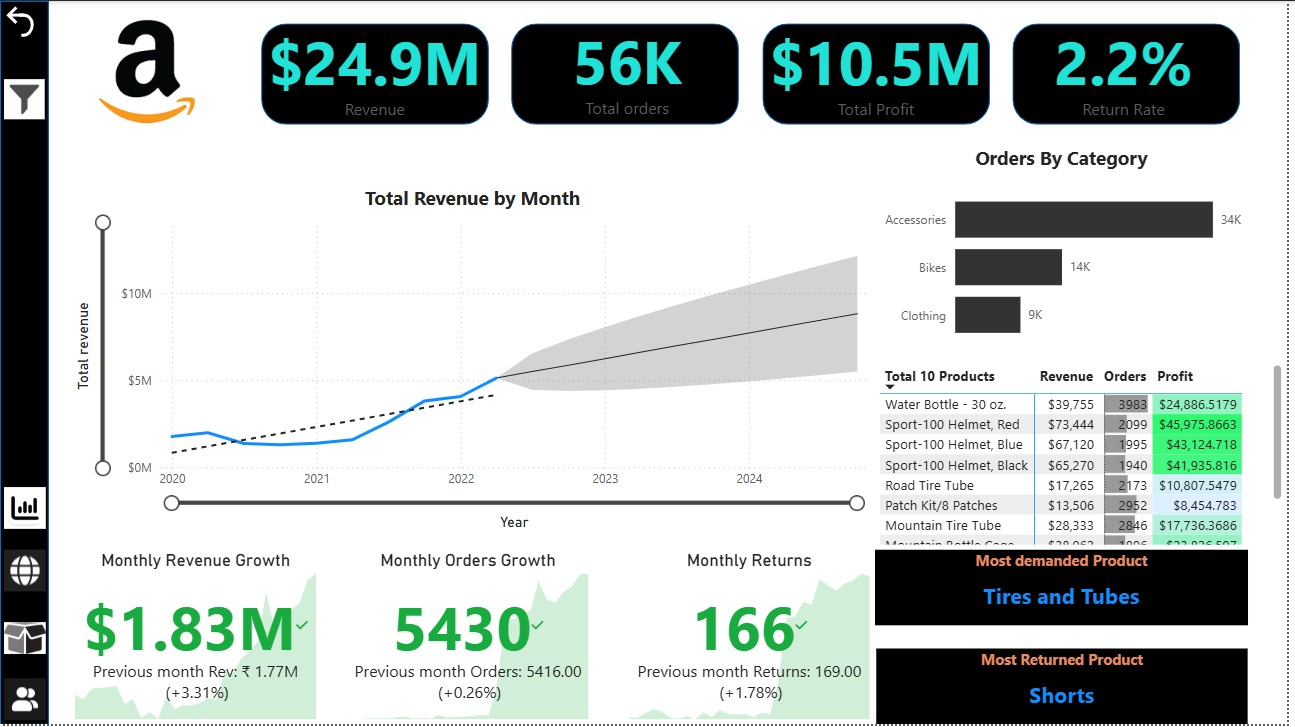

The page's visual inventory and layout, read from the dashboard file:
{"tool":"powerbi","page":{"name":"Exec Dash","canvas":[1280,720],"ordinal":0},"visuals":[{"type":"image","title":"AMAZON LOGO","box":[69.7,7.5,153,128.1],"z":0},{"type":"card","fields":{"Values":["Measures Table.Total revenue X"]},"box":[250,13.7,246.3,109.5],"z":0,"group":"g2"},{"type":"group","id":"g1","title":"KPIs Cards","box":[260,22.4,974,100],"z":0,"group":"g3"},{"type":"shape","box":[260,22.4,226.5,100.6],"z":0,"group":"g1"},{"type":"actionButton","box":[0,479,49.8,51],"z":0,"group":"g4"},{"type":"shape","box":[0,0,48.5,720.3],"z":1000},{"type":"group","id":"g2","title":"KPI Values","box":[250,13.7,991.4,109.5],"z":1000,"group":"g3"},{"type":"card","fields":{"Values":["Measures Table.Total orders"]},"box":[501.3,13.7,246.3,108.2],"z":1000,"group":"g2"},{"type":"shape","box":[509.1,22.4,226.5,100.6],"z":1000,"group":"g1"},{"type":"actionButton","box":[0,541.2,49.8,51],"z":1000,"group":"g4"},{"type":"group","id":"g3","title":"KPIs","box":[250,13.7,991.4,109.5],"z":2000},{"type":"card","fields":{"Values":["Measures Table.Total Profit"]},"box":[748.8,18.7,246.3,100.8],"z":2000,"group":"g2"},{"type":"shape","box":[758.2,22.4,226.5,100.6],"z":2000,"group":"g1"},{"type":"actionButton","box":[0,669.3,49.8,51],"z":2000,"group":"g4"},{"type":"card","fields":{"Values":["Measures Table.Return Rate"]},"box":[995.1,18.7,246.3,100.8],"z":3000,"group":"g2"},{"type":"shape","box":[1007.4,22.4,226.5,100.6],"z":3000,"group":"g1"},{"type":"lineChart","title":"Total Revenue by Month","fields":{"Y":["Measures Table.Total revenue X"],"Category":["Calendar Lookup.Start of Month.Variation.Date Hierarchy.Year","Calendar Lookup.Start of Month.Variation.Date Hierarchy.Quarter","Calendar Lookup.Start of Month.Variation.Date Hierarchy.Month","Calendar Lookup.Start of Month.Variation.Date Hierarchy.Day"]},"box":[69.7,182.9,801.1,348.3],"z":3000},{"type":"actionButton","box":[0,608.4,49.8,51],"z":3000,"group":"g4"},{"type":"kpi","title":"Monthly Revenue Growth","fields":{"Indicator":["Measures Table.Total revenue X"],"TrendLine":["Calendar Lookup.Start of Month"],"Goal":["Measures Table.Previous Month revenue"]},"box":[69.7,546.1,250,174.2],"z":4000},{"type":"kpi","title":"Monthly Orders Growth","fields":{"TrendLine":["Calendar Lookup.Start of Month"],"Indicator":["Measures Table.Total orders"],"Goal":["Measures Table.Previous Month Orders"]},"box":[340.8,546.1,250,174.2],"z":5000},{"type":"kpi","title":"Monthly Returns","fields":{"TrendLine":["Calendar Lookup.Start of Month"],"Indicator":["Measures Table.Total Returns"],"Goal":["Measures Table.Previous Month Returns"]},"box":[620.7,546.1,250,174.2],"z":6000},{"type":"clusteredBarChart","title":"Orders By Category","fields":{"Category":["Product Categories Lookup.CategoryName"],"Y":["Measures Table.Total orders"]},"box":[870.4,143.6,371.2,213.3],"z":7000},{"type":"pivotTable","fields":{"Rows":["Product Lookup.ProductName"],"Values":["Measures Table.Total revenue X","Measures Table.Total orders","Measures Table.Total Profit"]},"box":[870.4,357,409.6,189.2],"z":8000},{"type":"card","title":"Most Returned Product","fields":{"Values":["Min(Product Subcategories Lookup.SubcategoryName)"]},"box":[871.8,644.3,369.8,75.4],"z":9000},{"type":"card","title":"Most demanded Product","fields":{"Values":["Min(Product Subcategories Lookup.SubcategoryName)"]},"box":[870.4,546.1,371.2,75.4],"z":10000},{"type":"actionButton","box":[0,0,48.2,40.5],"z":11000},{"type":"group","id":"g4","title":"Custom navigation button","box":[0,479,49.1,240.9],"z":12000},{"type":"actionButton","box":[0,72.1,48.5,51],"z":13000}]}

Visuals, with their boxes on the page's 1280x720 design canvas (x1, y1, x2, y2). These are canvas units, not pixel positions in the 1295x727 screenshot, which may show the page scaled, cropped or inside an application window:
"AMAZON LOGO" image: x1=70 y1=8 x2=223 y2=136
card - Measures Table.Total revenue X: x1=250 y1=14 x2=496 y2=123
"KPIs Cards" group: x1=260 y1=22 x2=1234 y2=122
shape: x1=260 y1=22 x2=486 y2=123
actionButton: x1=0 y1=479 x2=50 y2=530
shape: x1=0 y1=0 x2=48 y2=720
"KPI Values" group: x1=250 y1=14 x2=1241 y2=123
card - Measures Table.Total orders: x1=501 y1=14 x2=748 y2=122
shape: x1=509 y1=22 x2=736 y2=123
actionButton: x1=0 y1=541 x2=50 y2=592
"KPIs" group: x1=250 y1=14 x2=1241 y2=123
card - Measures Table.Total Profit: x1=749 y1=19 x2=995 y2=120
shape: x1=758 y1=22 x2=985 y2=123
actionButton: x1=0 y1=669 x2=50 y2=720
card - Measures Table.Return Rate: x1=995 y1=19 x2=1241 y2=120
shape: x1=1007 y1=22 x2=1234 y2=123
"Total Revenue by Month" lineChart: x1=70 y1=183 x2=871 y2=531
actionButton: x1=0 y1=608 x2=50 y2=659
"Monthly Revenue Growth" kpi: x1=70 y1=546 x2=320 y2=720
"Monthly Orders Growth" kpi: x1=341 y1=546 x2=591 y2=720
"Monthly Returns" kpi: x1=621 y1=546 x2=871 y2=720
"Orders By Category" clusteredBarChart: x1=870 y1=144 x2=1242 y2=357
pivotTable - Product Lookup.ProductName x Measures Table.Total revenue X: x1=870 y1=357 x2=1280 y2=546
"Most Returned Product" card: x1=872 y1=644 x2=1242 y2=720
"Most demanded Product" card: x1=870 y1=546 x2=1242 y2=622
actionButton: x1=0 y1=0 x2=48 y2=40
"Custom navigation button" group: x1=0 y1=479 x2=49 y2=720
actionButton: x1=0 y1=72 x2=48 y2=123
